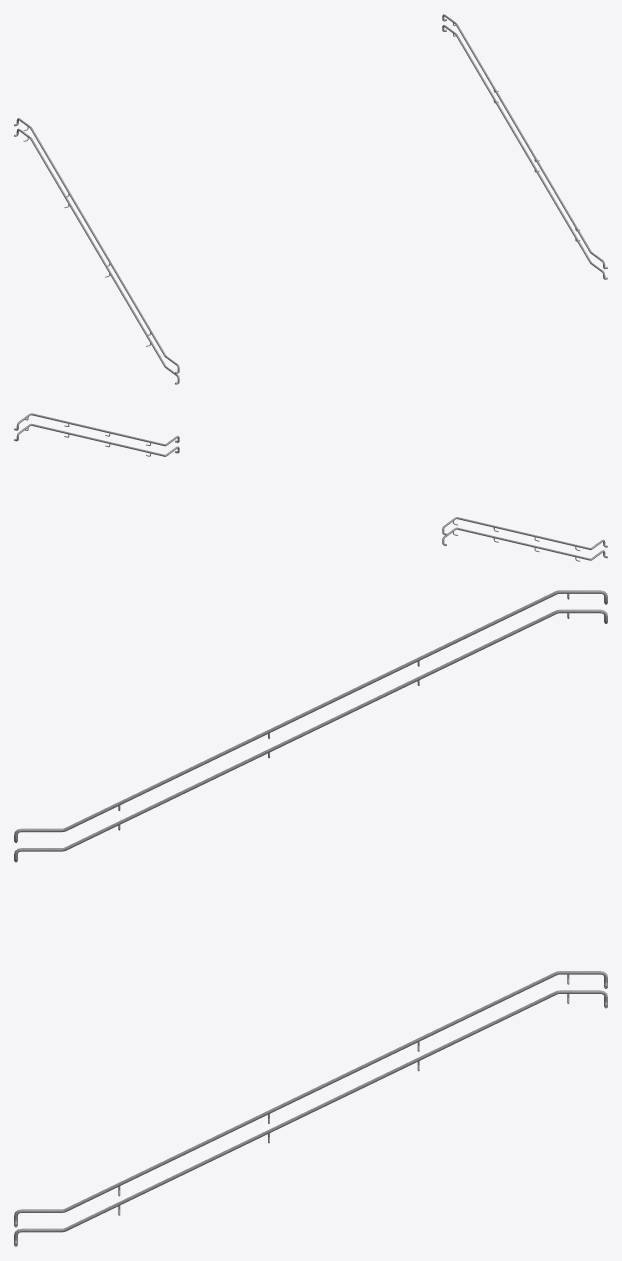
File: gteki_ik_stair_n15_r164_t308_w8376_rails_wall.glb
The picture shows the model from 3 angles, top to bottom: view 1: azimuth 30°, elevation 25°; view 2: azimuth 150°, elevation 25°; view 3: azimuth 270°, elevation 25°; orthographic projection. The views are drawn at different scales.
Visible parts, largest first — view 1: VIS_handrails; view 2: VIS_handrails; view 3: VIS_handrails.
Boxes of the visible parts, <box> form: VIS_handrails: <box>14,14,607,384</box>; VIS_handrails: <box>14,413,607,560</box>; VIS_handrails: <box>14,590,607,1246</box>.
Bounding box in the file's own units: 8.6 × 2.81 × 5.56.
Materials: 1 (1 with a texture image).
